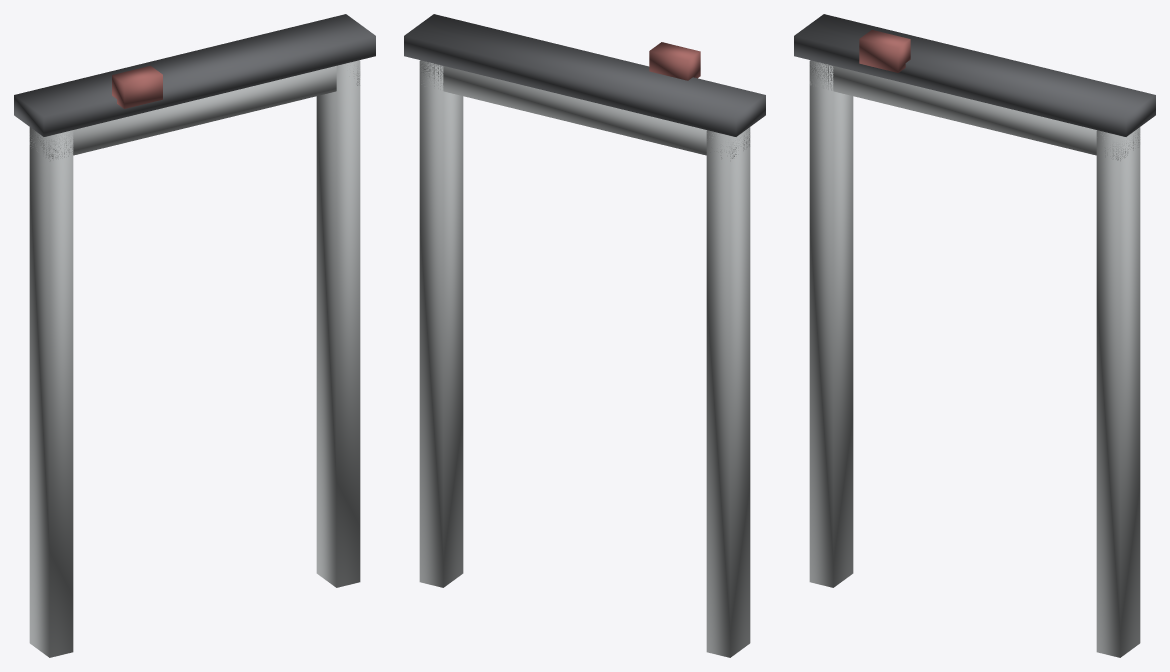
File: doorway_fire_rated_w122_h220_d16.glb
The picture shows the model from 3 angles, left to right: view 1: azimuth 30°, elevation 25°; view 2: azimuth 150°, elevation 25°; view 3: azimuth 330°, elevation 25°; orthographic projection.
Visible parts, largest first — view 1: world; view 2: world; view 3: world.
Part boxes in pixels (x1=…): world: x1=14, y1=14, x2=375, y2=657; world: x1=404, y1=14, x2=765, y2=657; world: x1=794, y1=14, x2=1155, y2=657.
Bounding box in the file's own units: 1.54 × 2.51 × 0.3.
